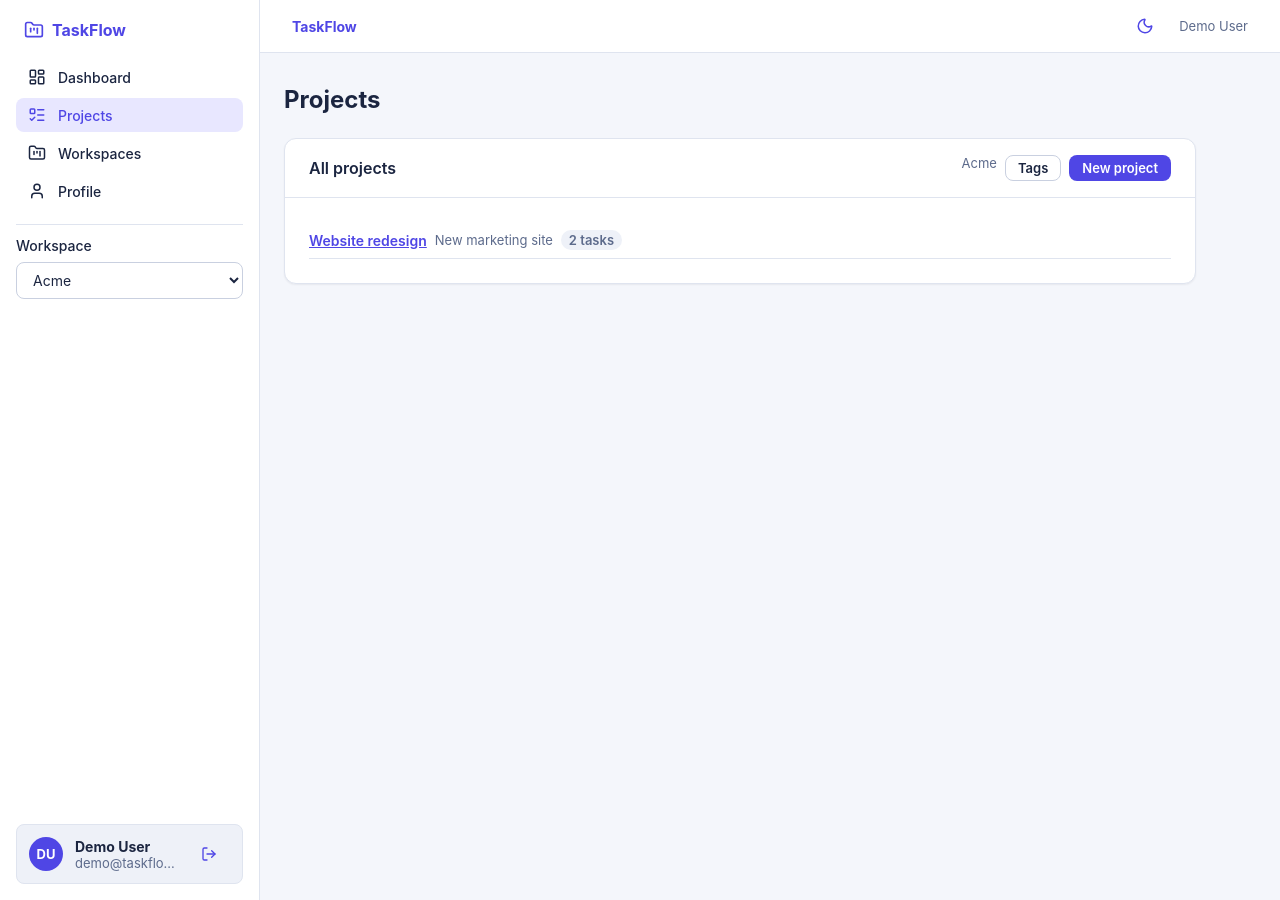
Test: Task drawer — "Task title opens the drawer from list view" (@w1) › Board card opens the drawer — same drawer as the list view
Click the link "Website redesign" at x=368, y=240, box [309,232,427,248]
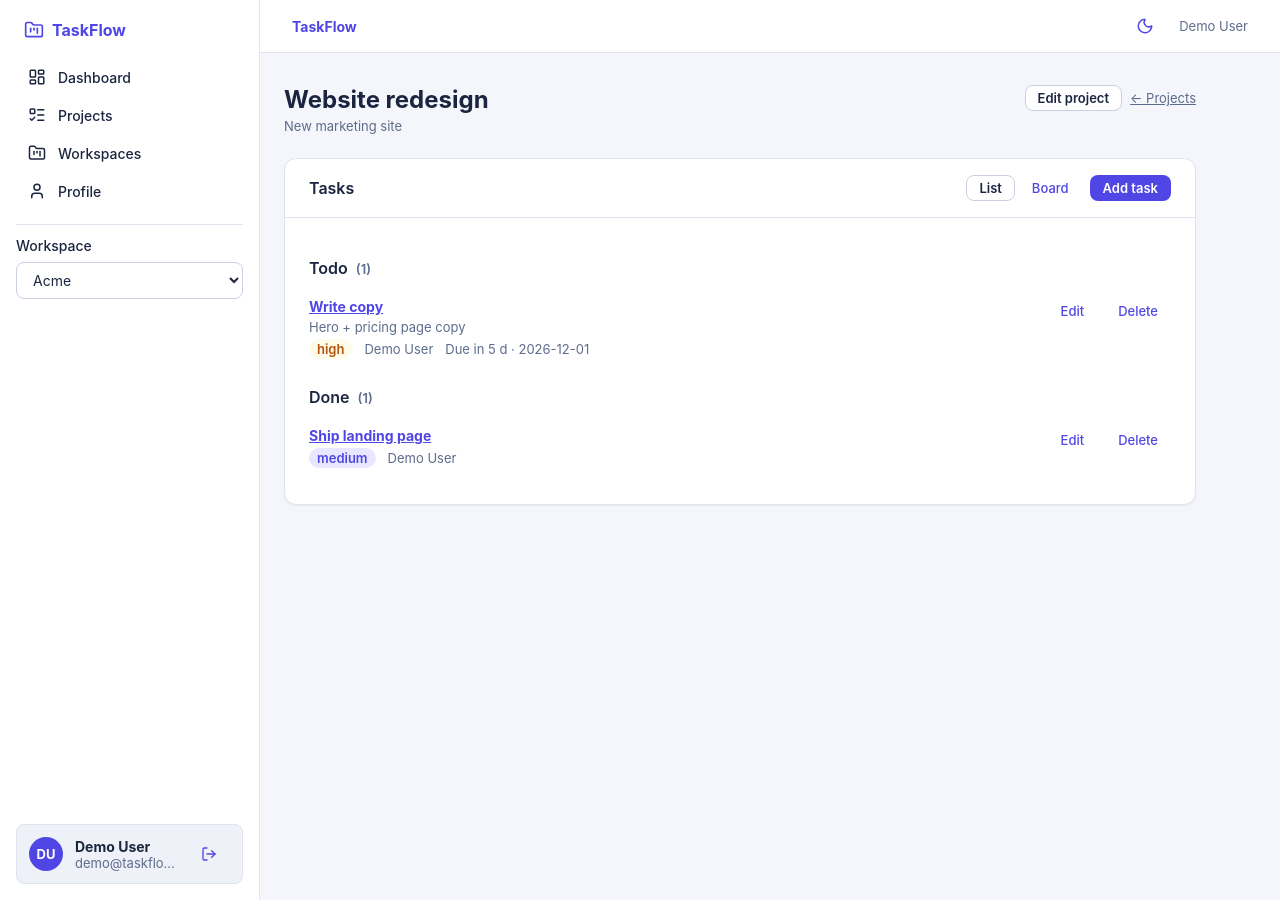
Expected: the link "Write copy" is shown, [309,298,383,315]
Click the button "Board" at x=1050, y=188, box [1019,175,1082,201]
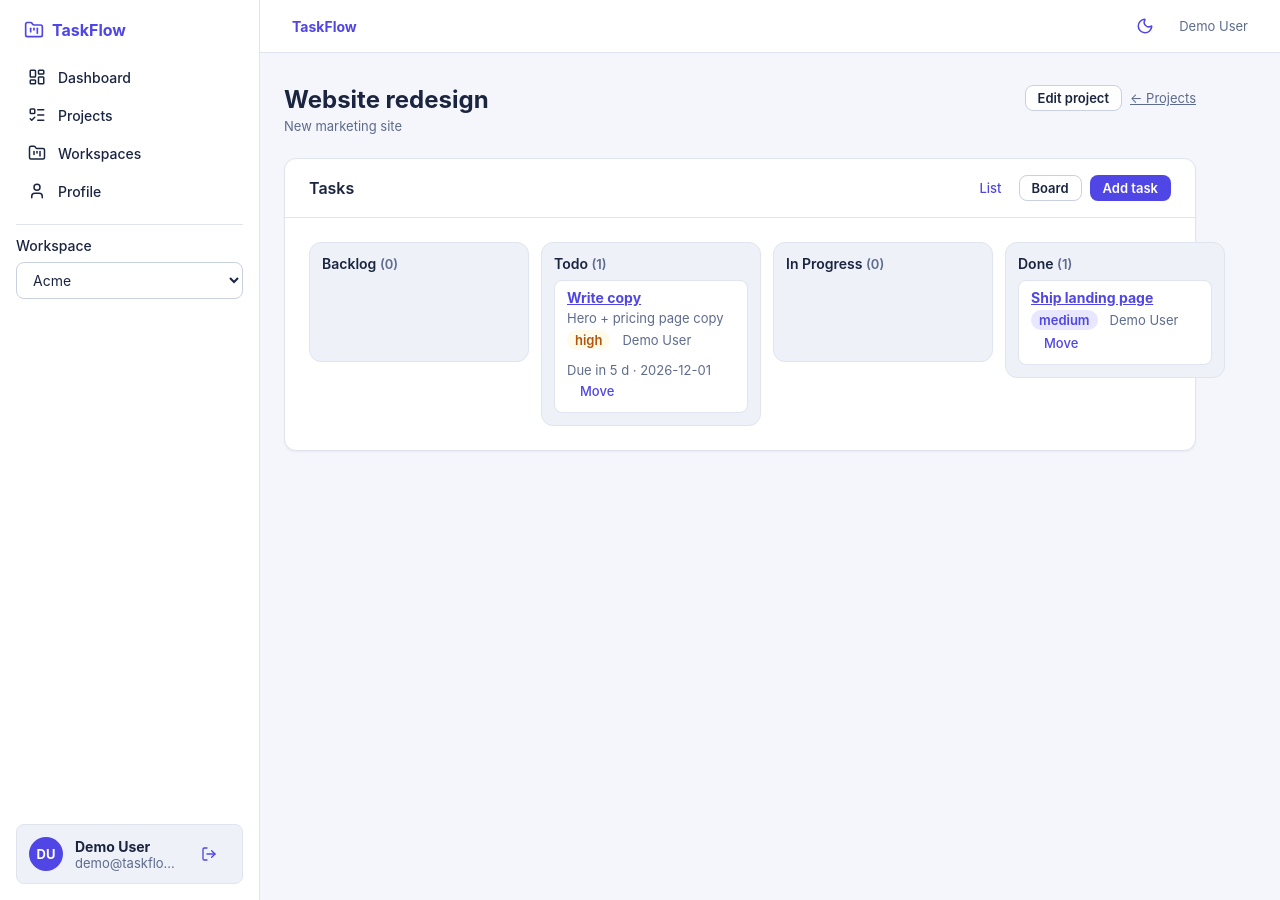
Click the link "Write copy" at x=604, y=298, box [567,289,641,306]
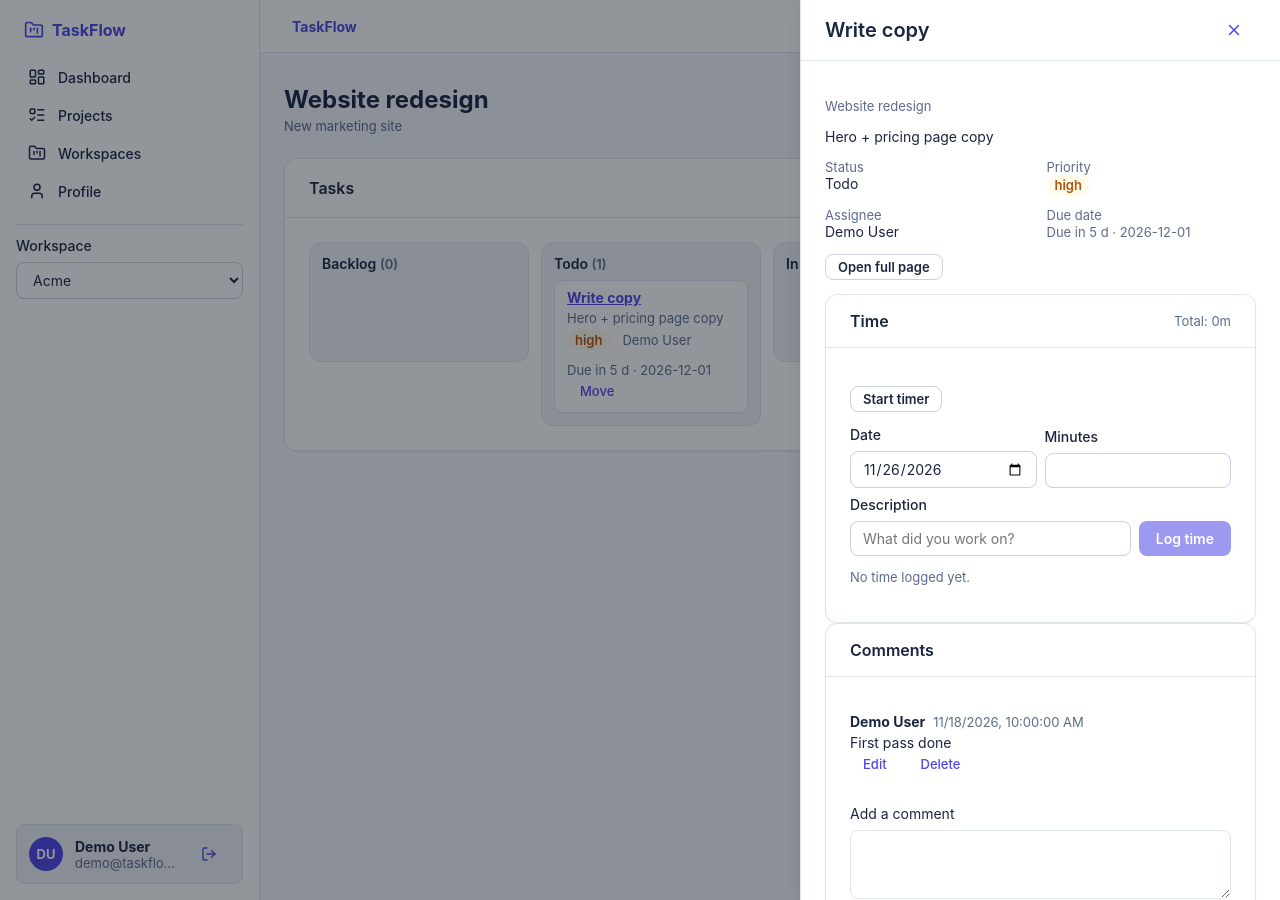
Expected: the link "Write copy" is shown, [567,289,641,306]
Expected: the dialog is shown, [800,0,1279,899]
